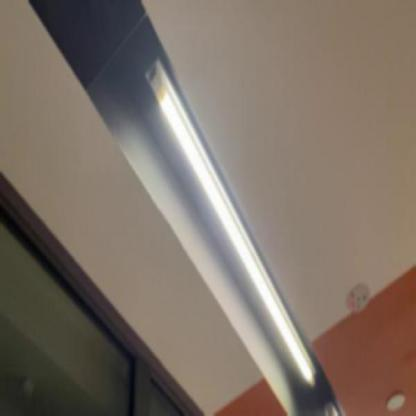light_on: (143, 46, 317, 389)
